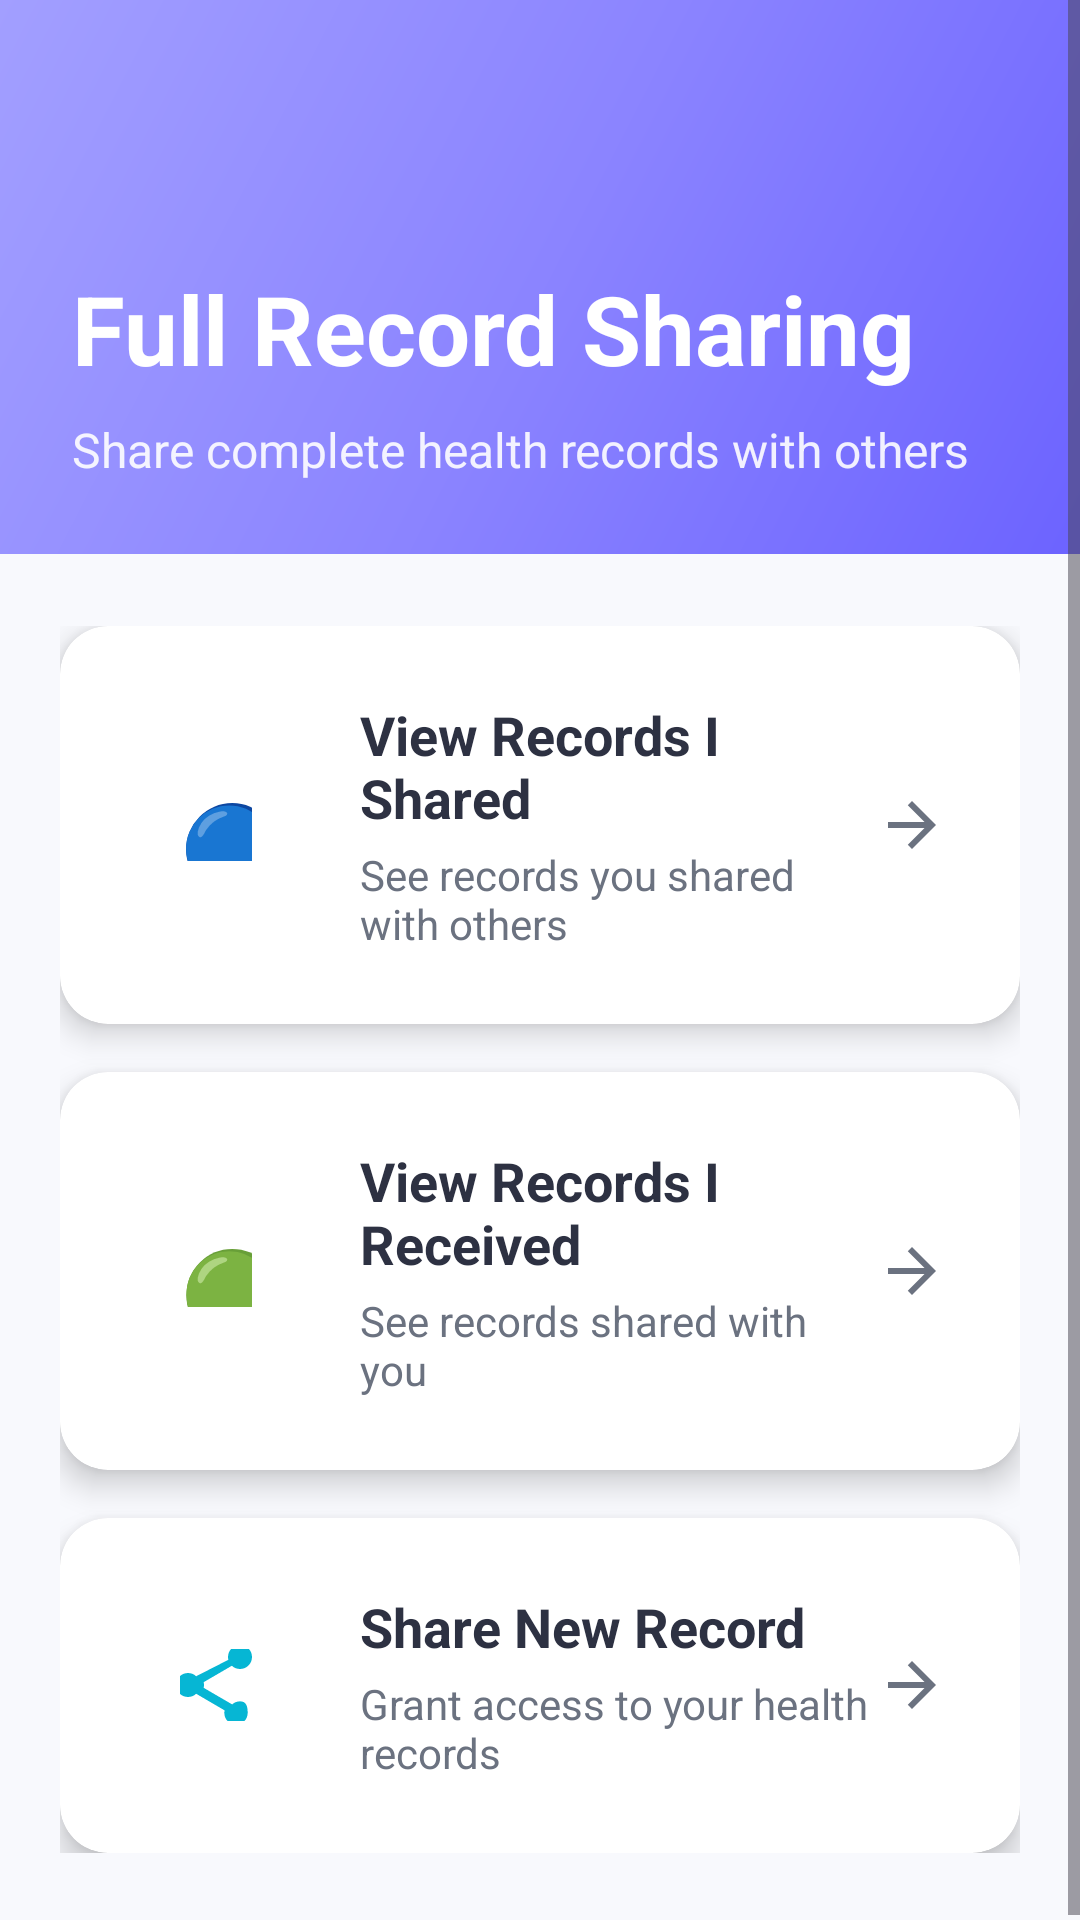

Point at icon controls on the screen. Image size 1080×1920, points as (x=x, y=y).
arrow forward: (x=912, y=825), (x=912, y=1271), (x=912, y=1685)
